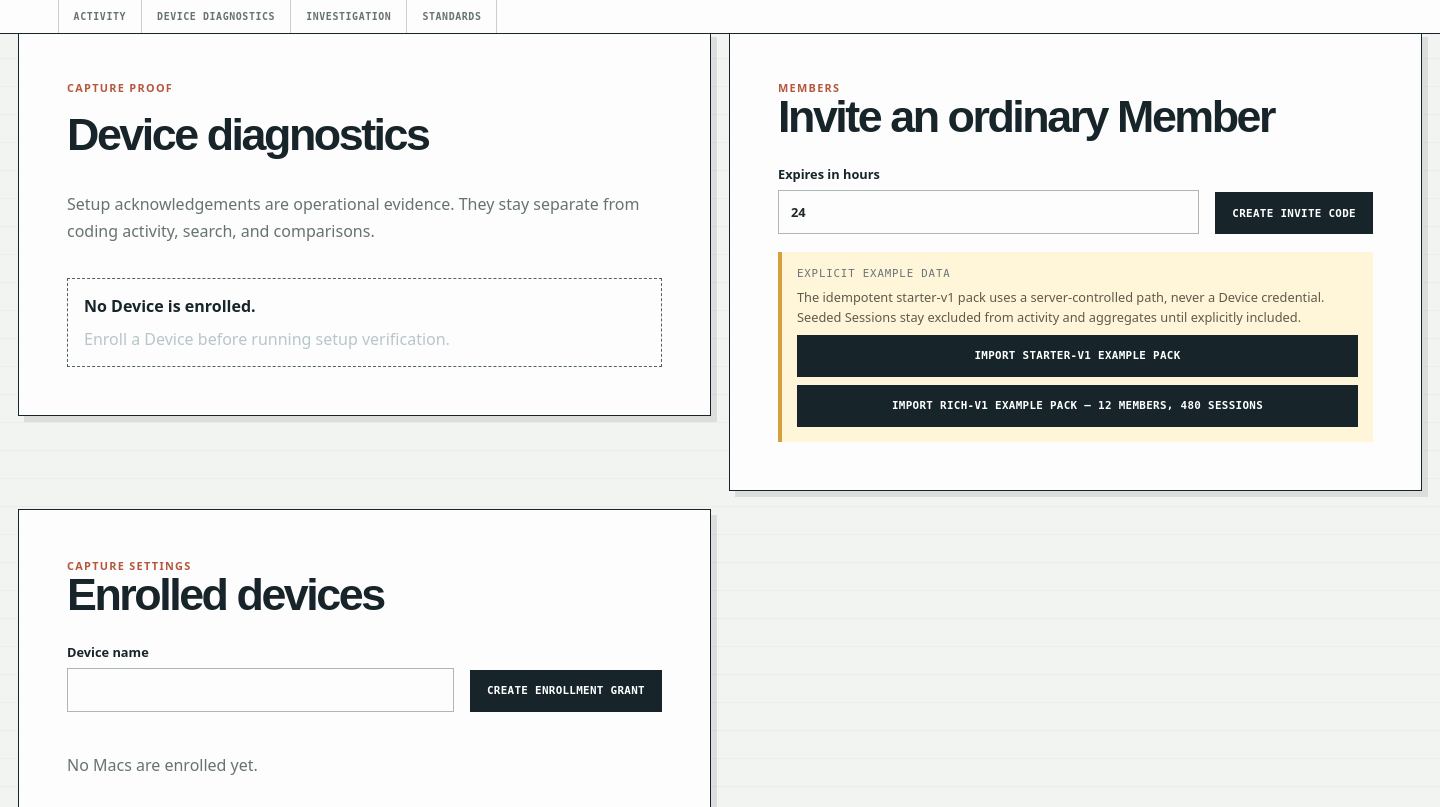
an Administrator can import rich-v1 with exact permanently Seeded receipt counts
(page scrolled)
Click the button "Import rich-v1 Example pack — 12 members, 480 Sessions".
click(1078, 406)  # box [797,385,1358,427]
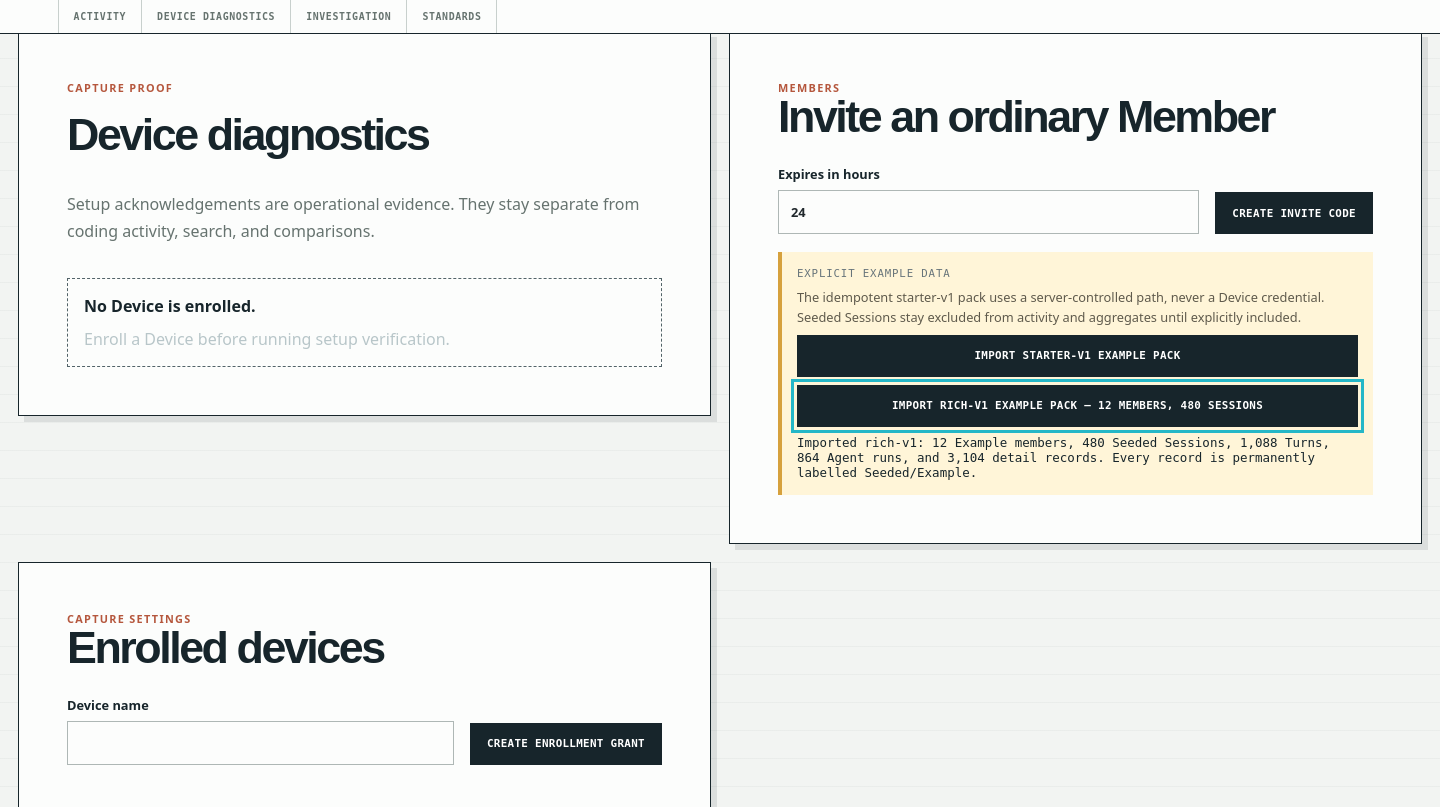
Now the text "12 Example members, 480 Seeded Sessions, 1,088 Turns, 864 Agent runs, and 3,104 detail records" shows "permanently labelled Seeded/Example", box [797,435,1330,480]
